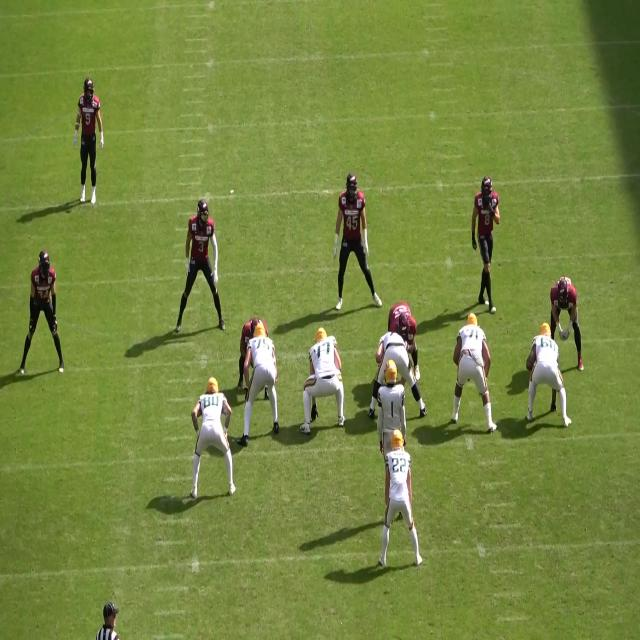american-football-players: (175, 199, 226, 333), (333, 173, 383, 309), (379, 429, 424, 567), (451, 313, 498, 435), (20, 251, 66, 372), (191, 379, 236, 499), (240, 322, 281, 448), (368, 333, 427, 419), (524, 322, 570, 426), (301, 328, 346, 432), (471, 178, 502, 313), (73, 78, 104, 202), (550, 276, 584, 372), (238, 315, 270, 401), (387, 301, 421, 379), (378, 360, 406, 452)
